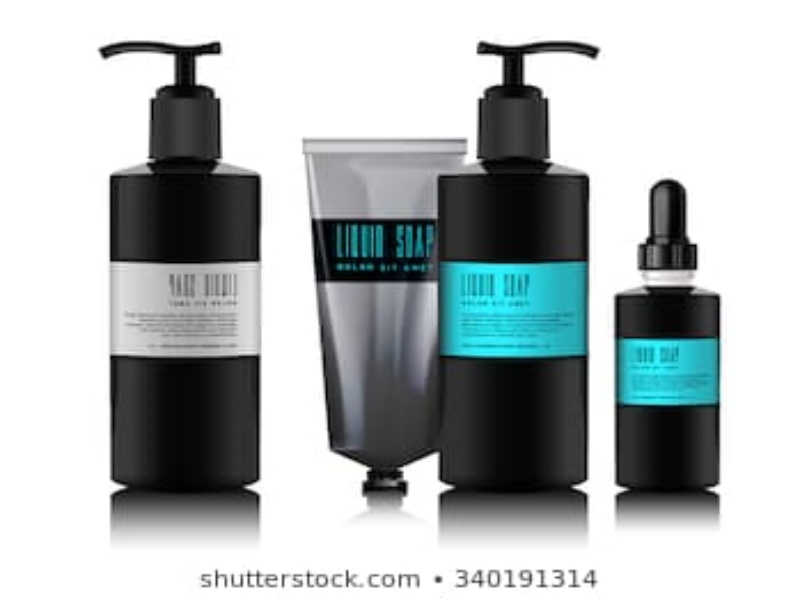shampoo-bottle: (96, 39, 265, 495), (433, 38, 603, 491), (299, 133, 452, 495)
